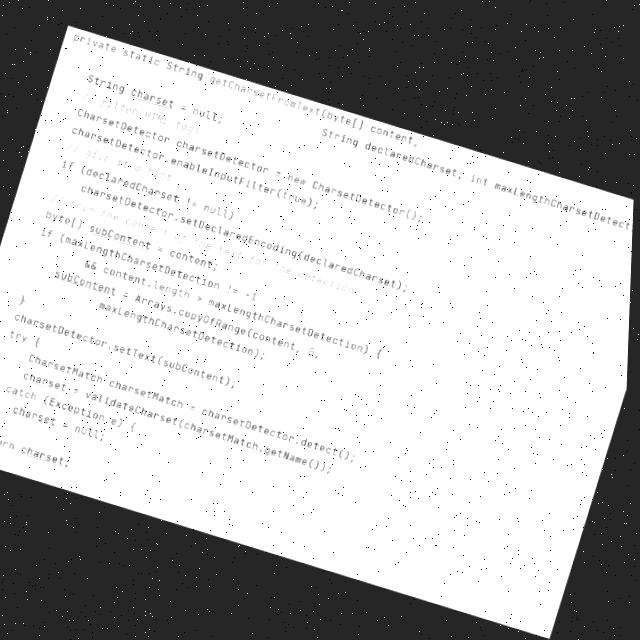code_screen: (0, 30, 633, 634)
